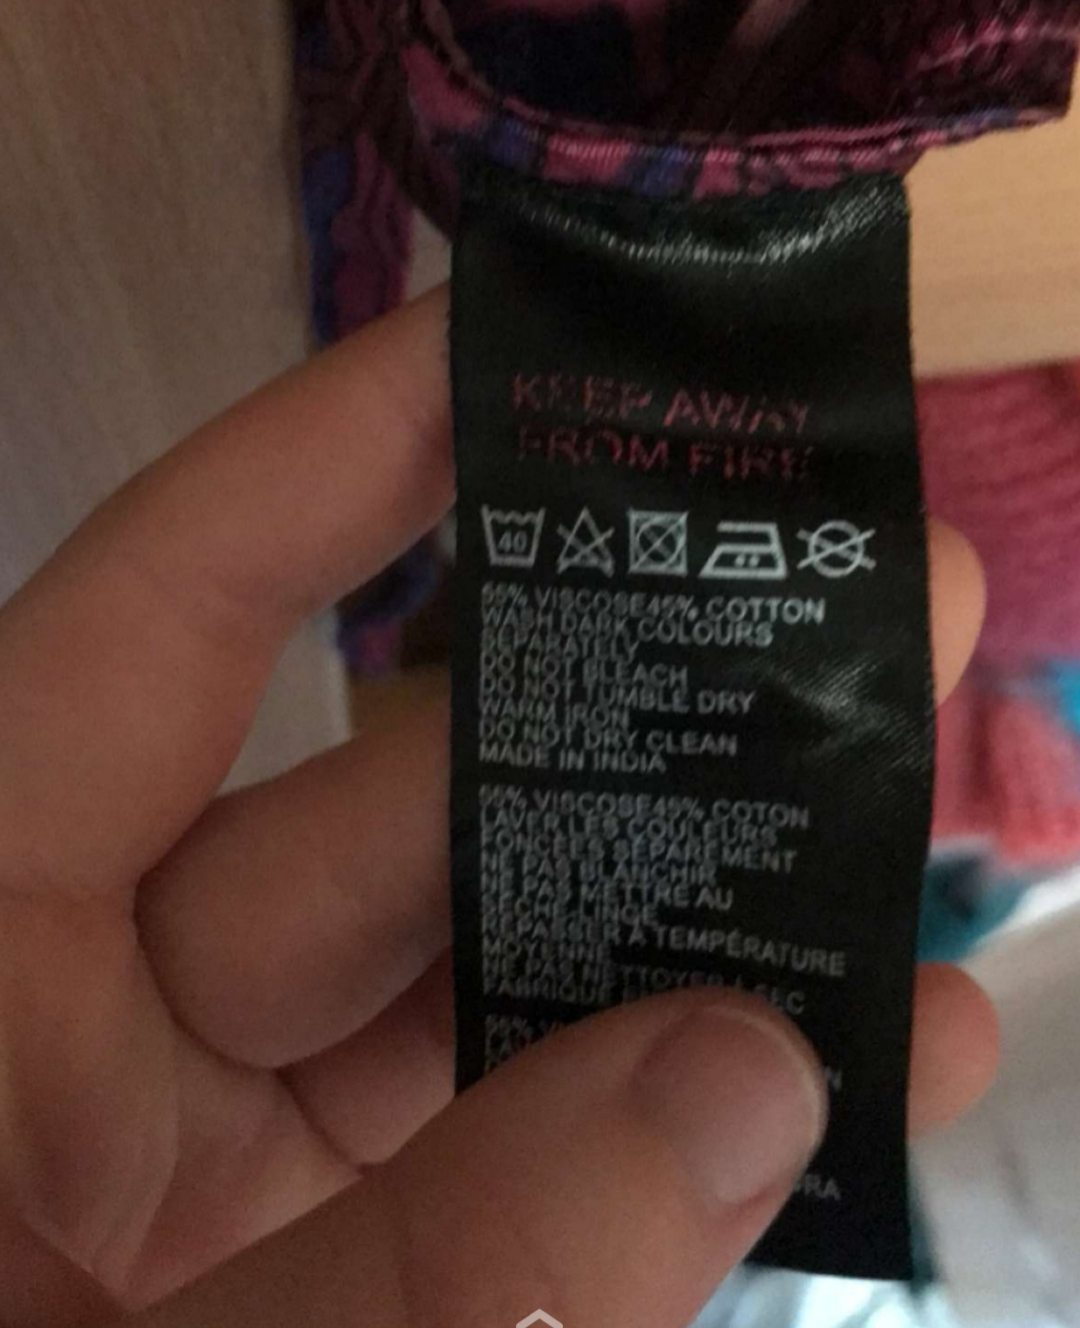do not bleach: (548, 486, 627, 587)
do not tumble dry: (803, 495, 901, 584), (626, 496, 700, 589)
iron medium temp: (704, 492, 800, 598)
wash at or below 40: (466, 486, 554, 587)
